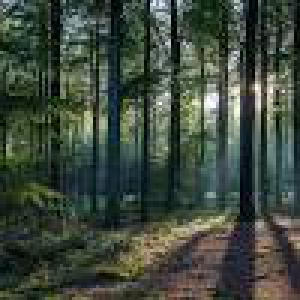Tree: (6, 9, 258, 207)
